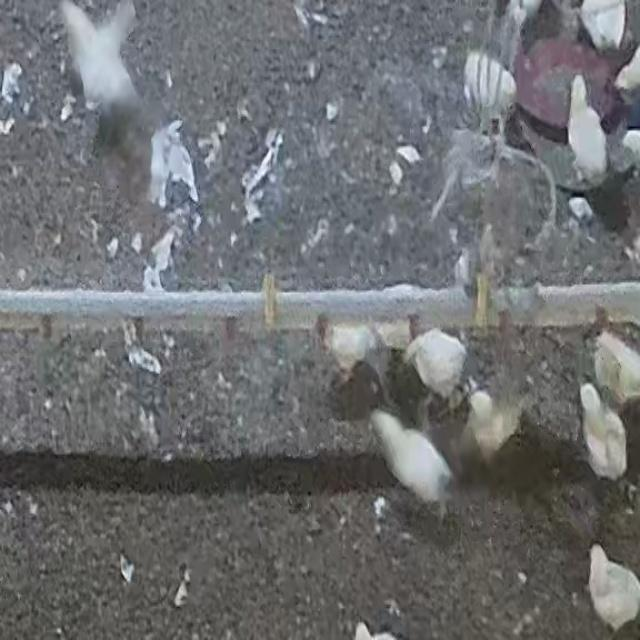chicken: (366, 404, 459, 526), (56, 2, 145, 120), (576, 378, 632, 484), (562, 71, 610, 191), (584, 538, 640, 632)
